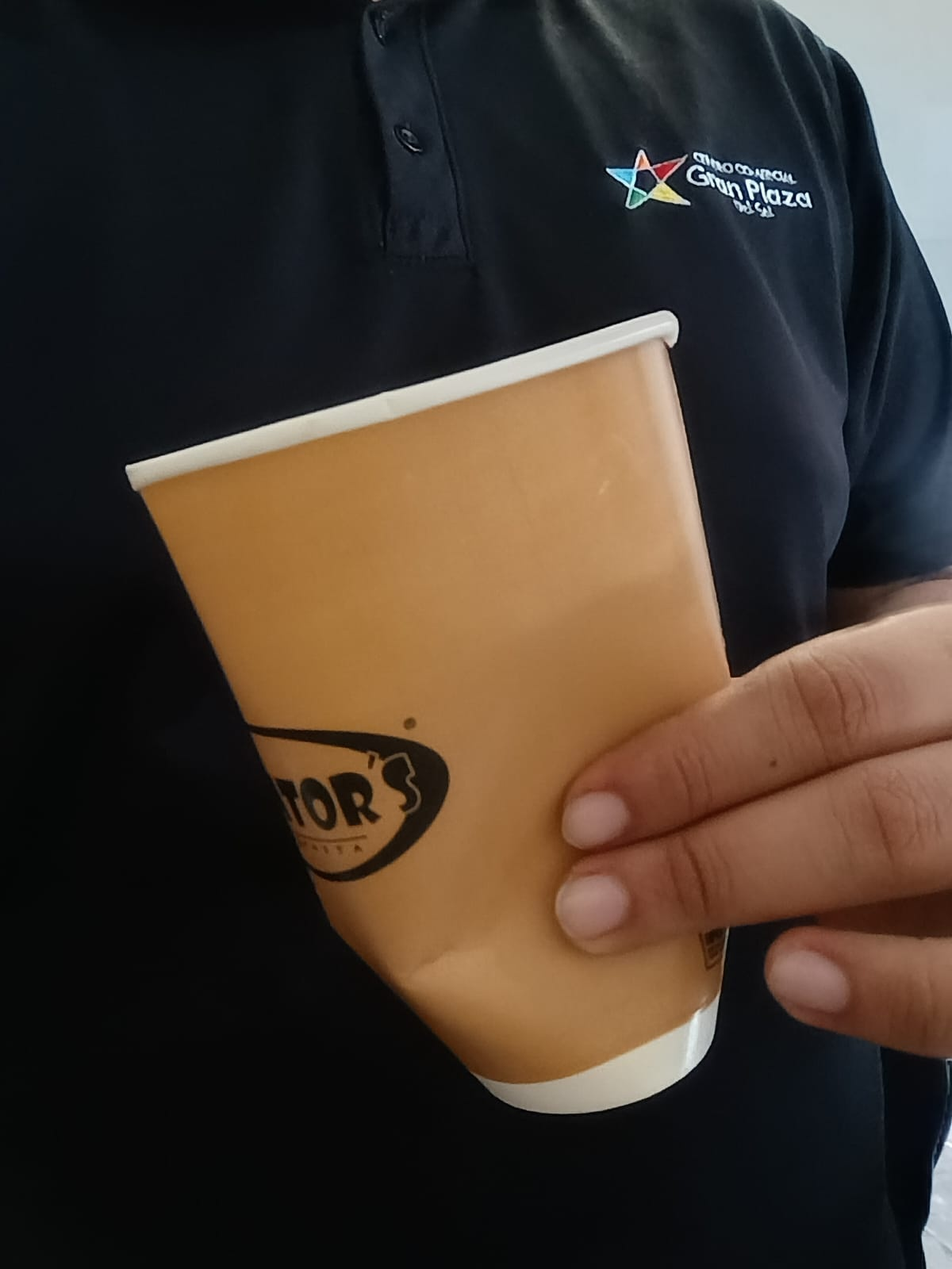Carton: (127, 313, 736, 1113)
